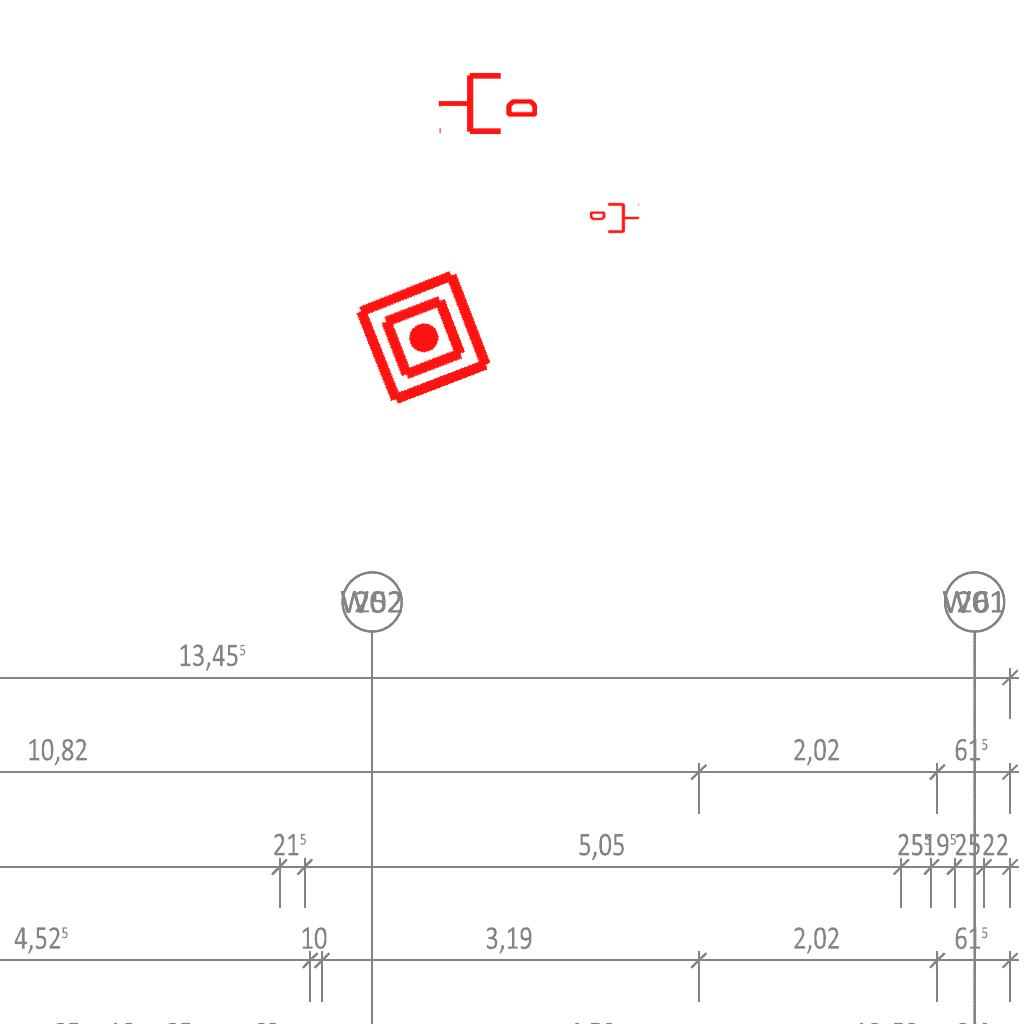Datenanschluss_einfach: (437, 69, 537, 138), (590, 201, 640, 235)
NAM-Nichtautomatischer_Melder: (350, 264, 497, 411)
